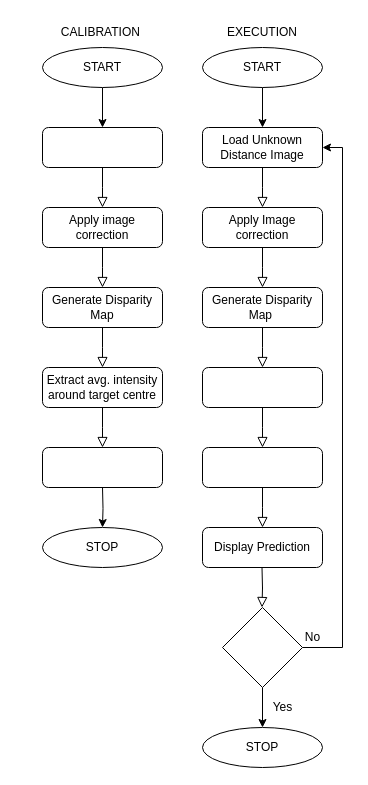
Some shapes in this 368 by 785 pixel diagram are drawn without their labels. The centre of each missing label's shape, as x and y in pixels:
"Calculate BF Value" belongs at pixel 102 467.
"Calculate Distance Prediction" belongs at pixel 262 467.
"Extract Average Intensity" belongs at pixel 262 387.
"Last Image?" belongs at pixel 262 647.
"Load Known Distance Targets" belongs at pixel 102 147.
